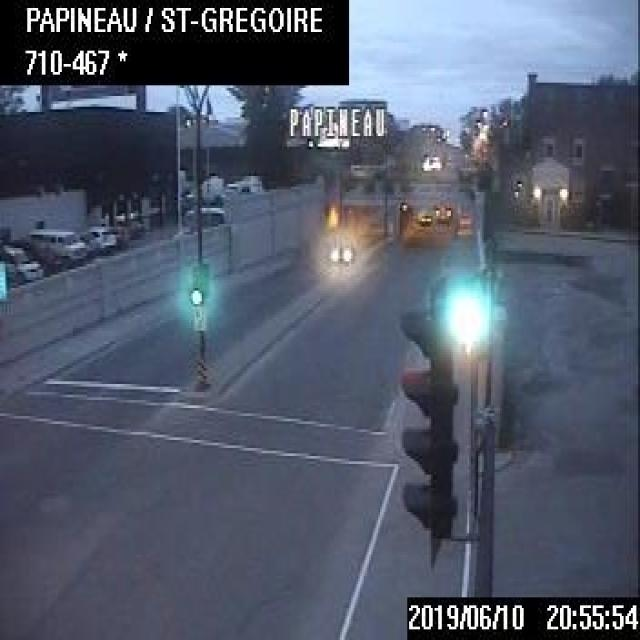vehicle: (28, 228, 87, 264), (0, 240, 45, 280), (79, 222, 118, 256), (325, 232, 353, 264), (414, 212, 436, 226)
